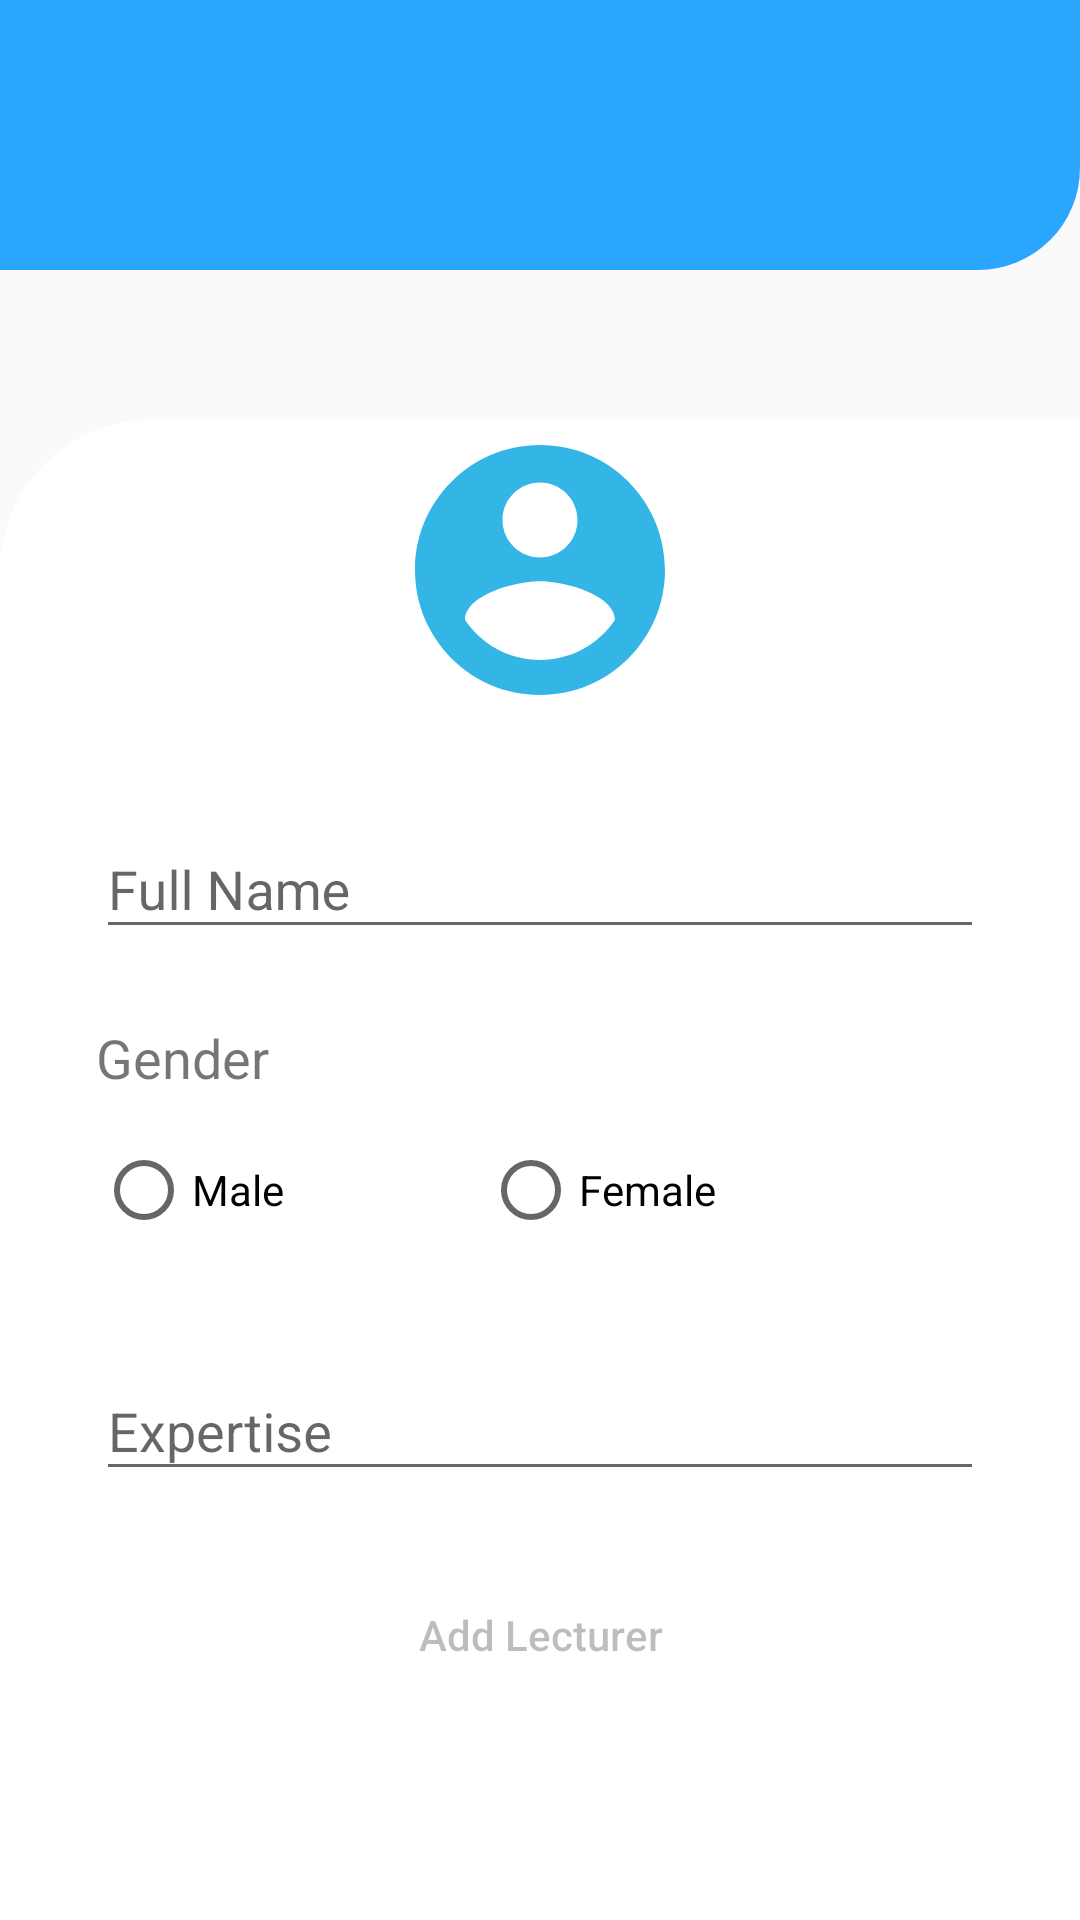

Icon bounding boxes for this 1080px×1920px phone screenshot, format (x1, y1, x2, y2):
account circle: (415, 445, 665, 695)
